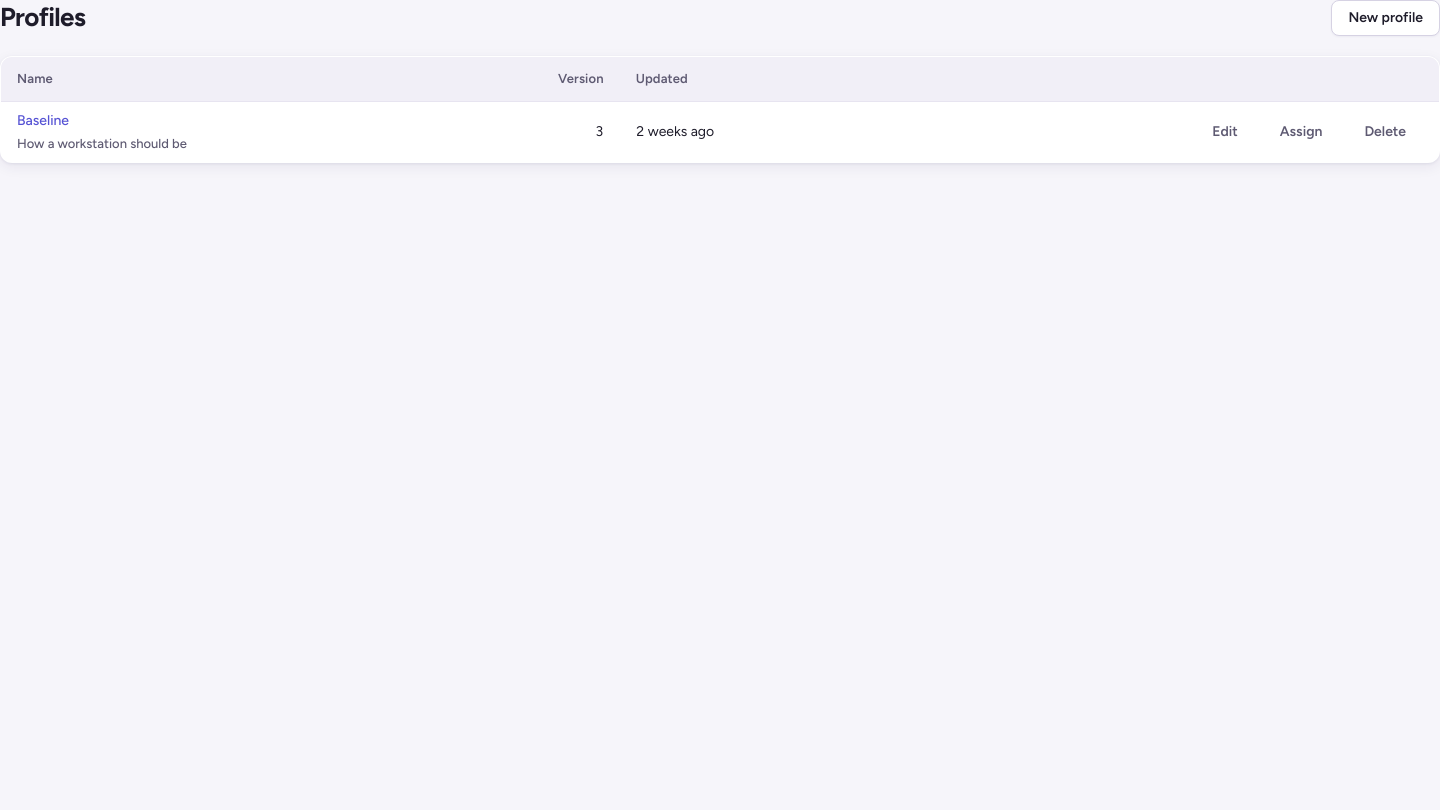
Profiles: the M8 setting kinds › says plainly what BitLocker will and will not do
Expected: the button "Baseline" is shown, [17,110,69,132]
Click the button "New profile": (1386, 18) [1332,0,1439,36]
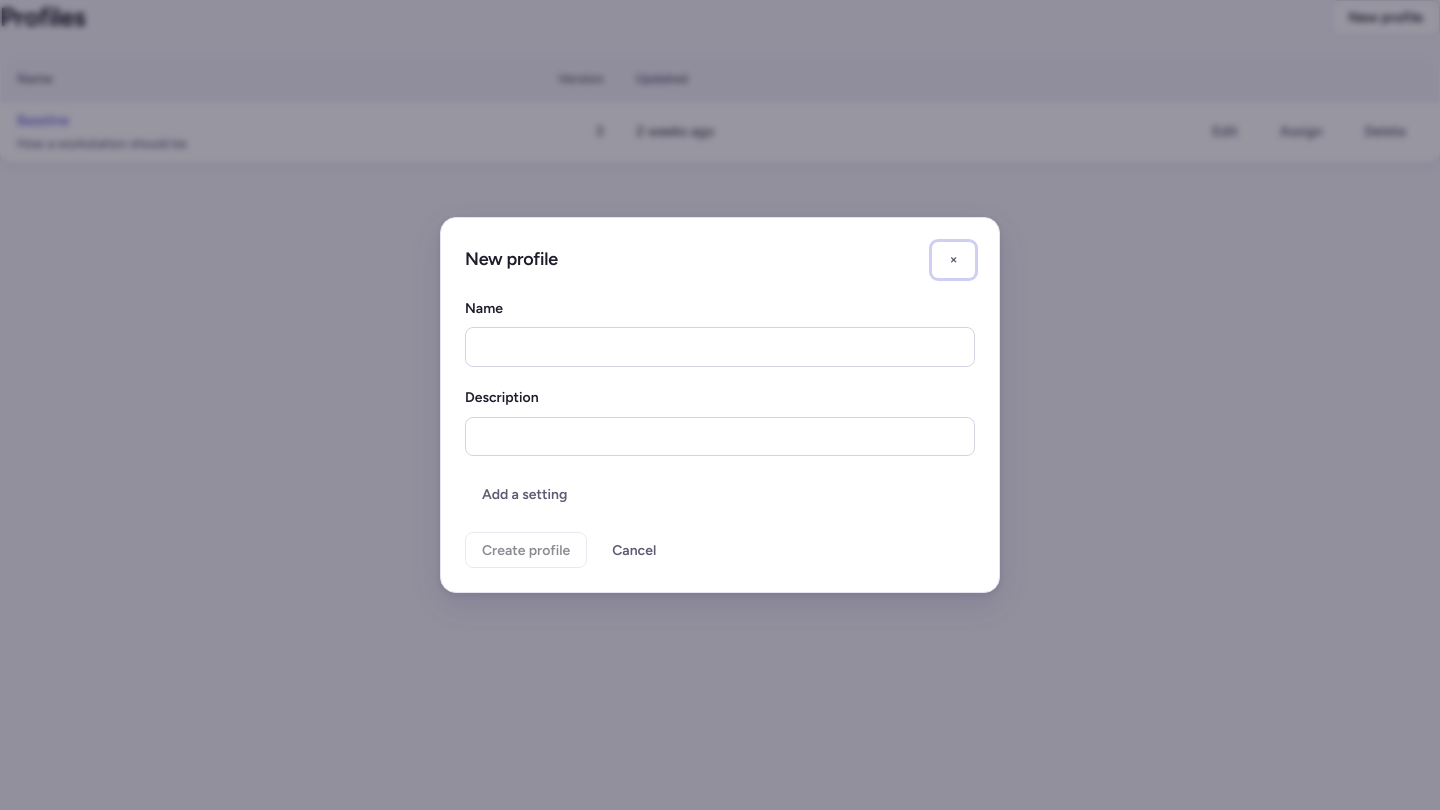
Click the button "Add a setting": (525, 494) [465,476,584,512]
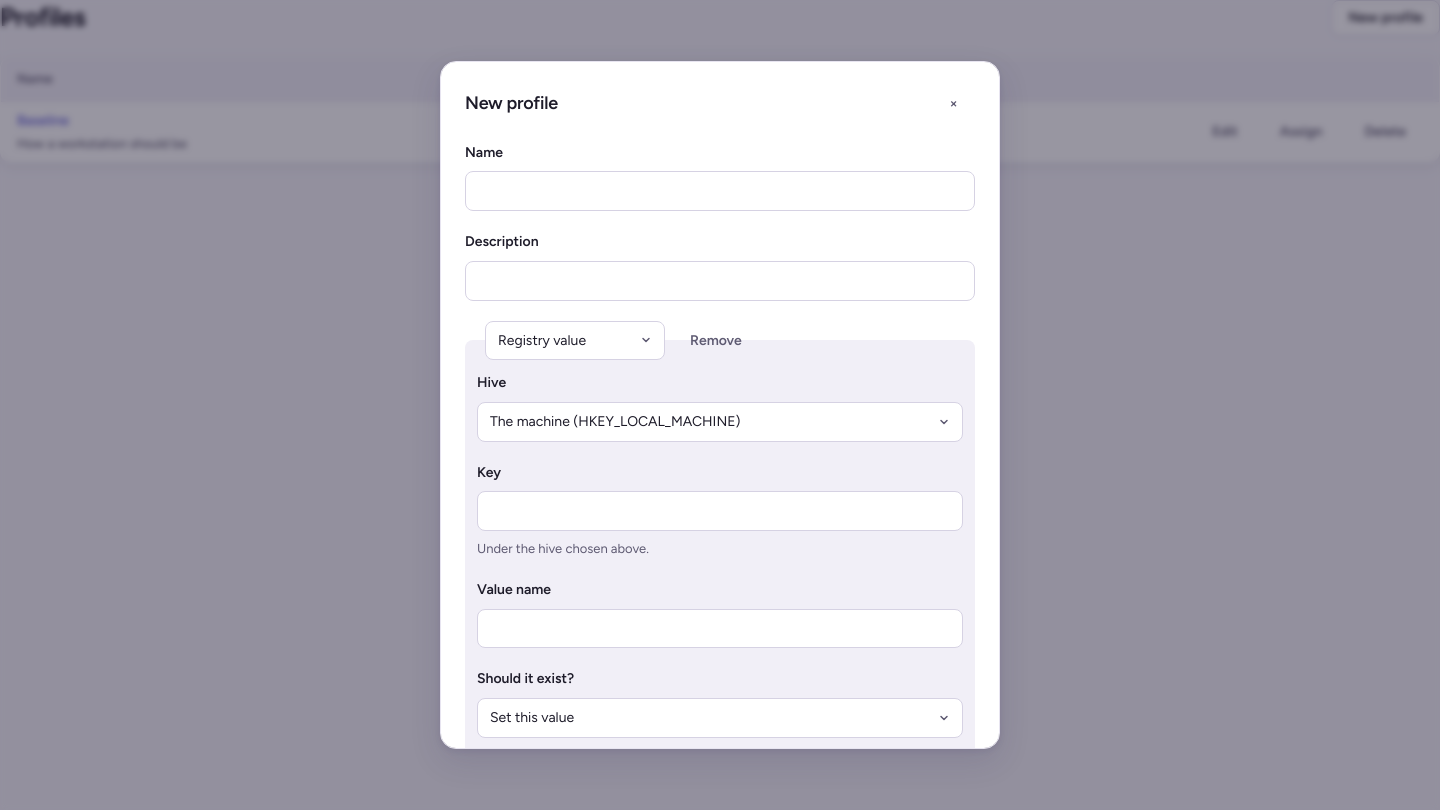
Select "BitLocker" in the dropdown named "Setting 1 kind": (575, 340) [485,320,665,360]
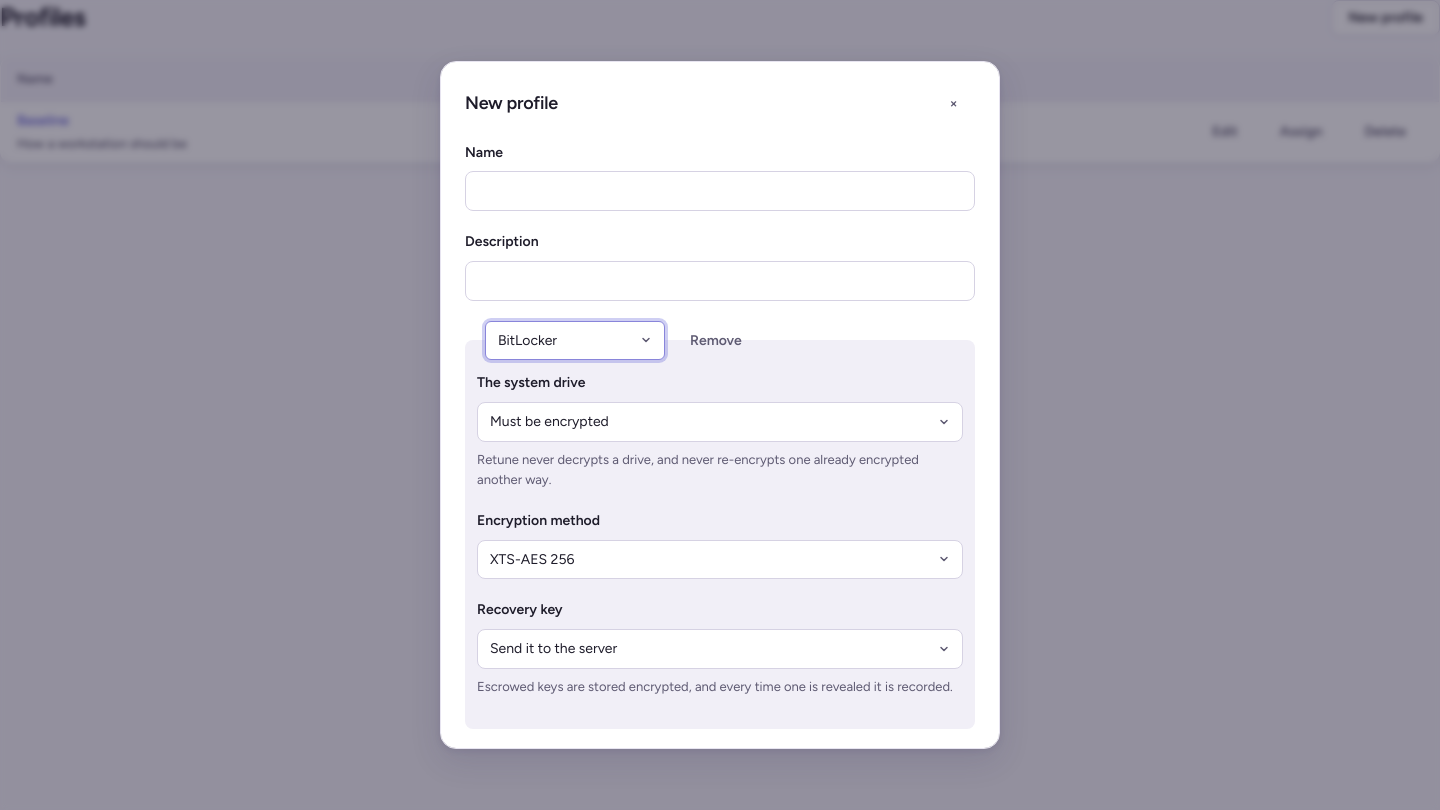
Expected: the text "never decrypts a drive" is shown, [477,452,919,487]
Expected: the text "every time one is revealed it is recorded" is shown, [477,679,953,694]
